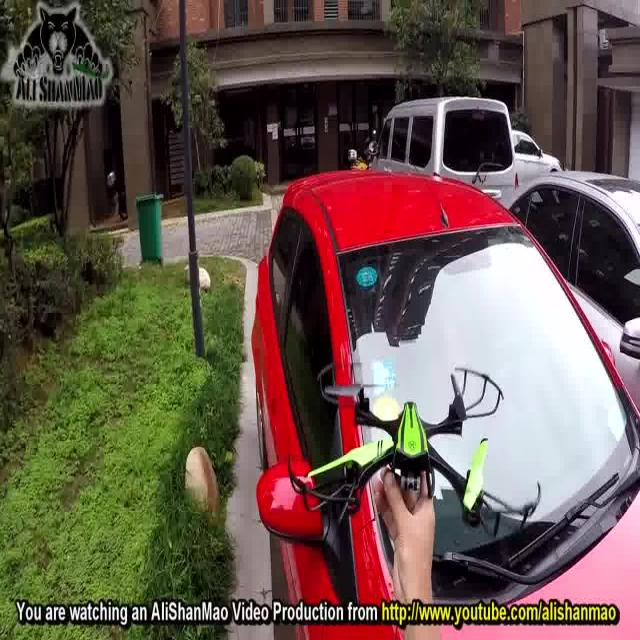drones: (282, 349, 542, 547)
